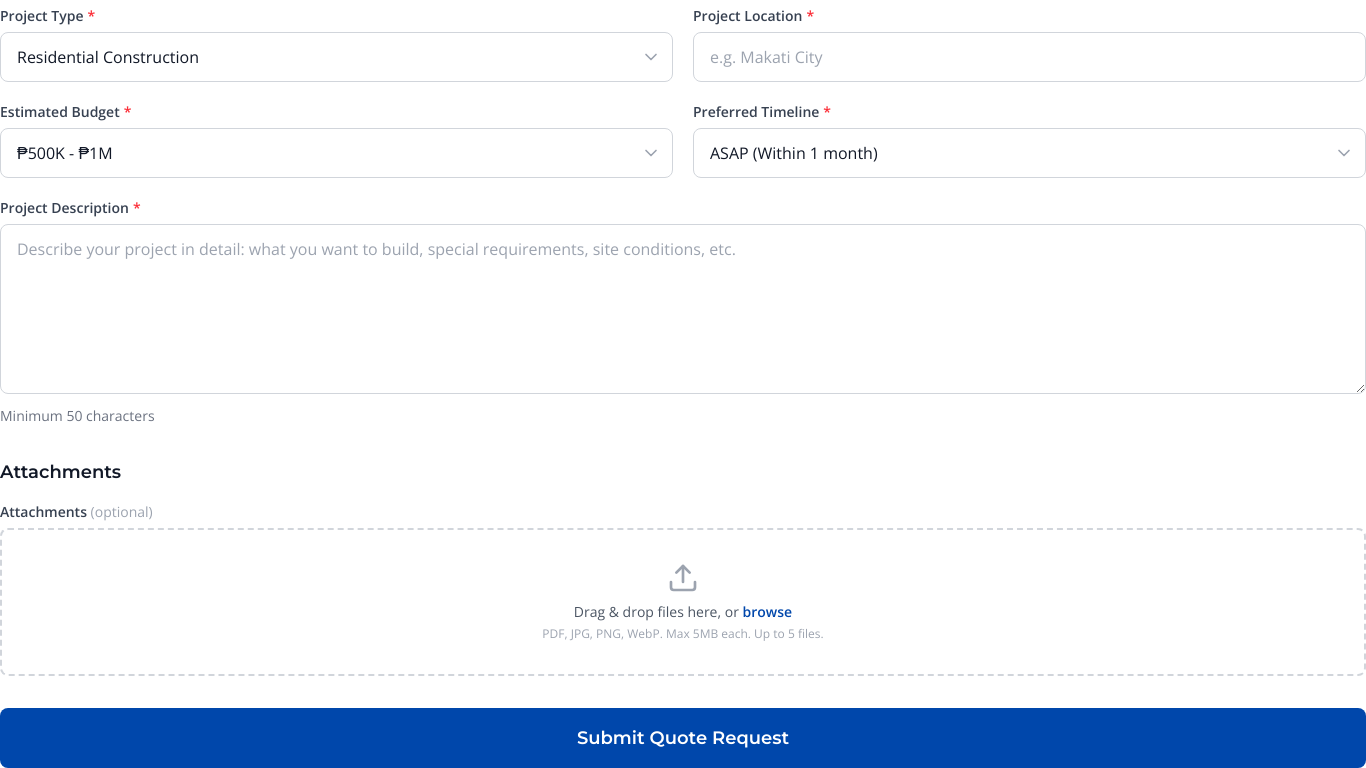
Test: QuoteForm › Validation › shows errors on empty submit
(page scrolled)
Click the button "Submit Quote Request" at [683, 738], box [0,708,1365,767]
(page scrolled)
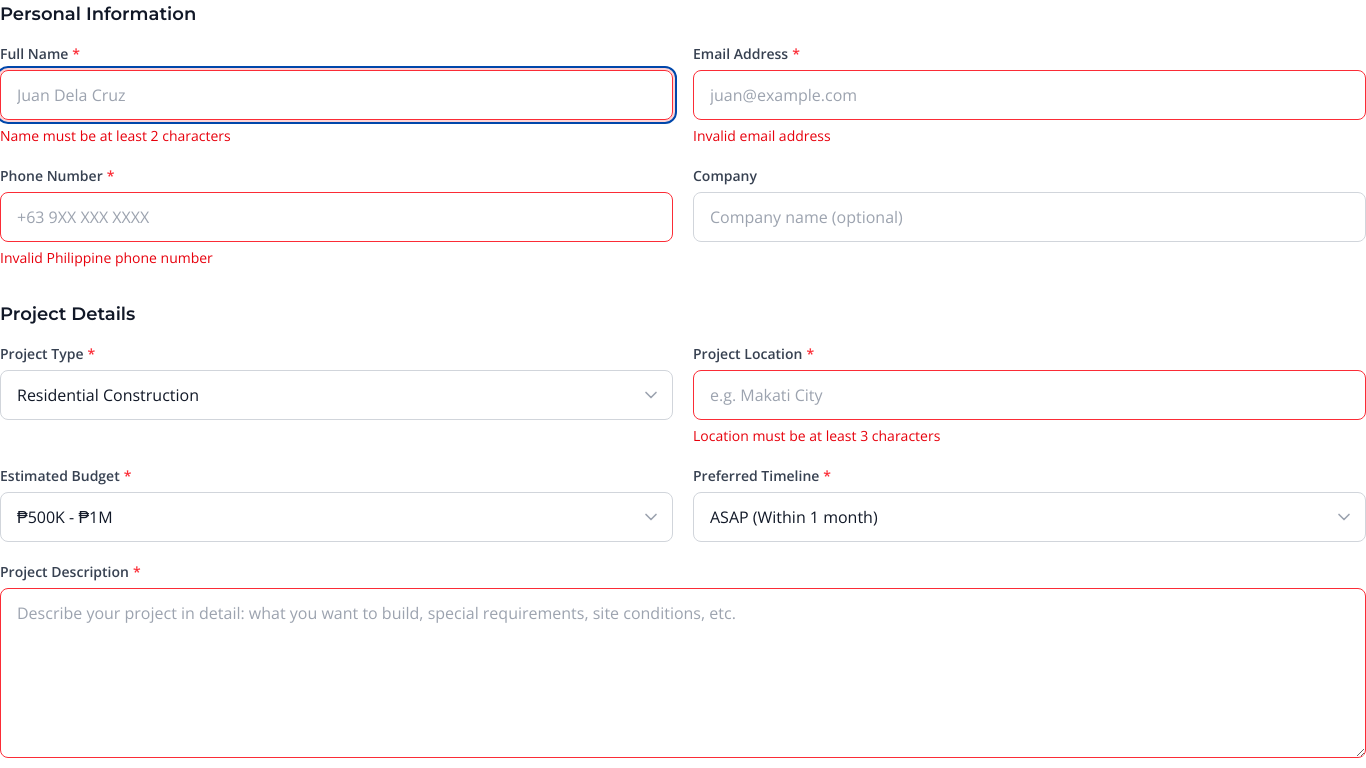
Check: the text "Name must be at least 2 characters" is shown, box [0,126,231,145]
